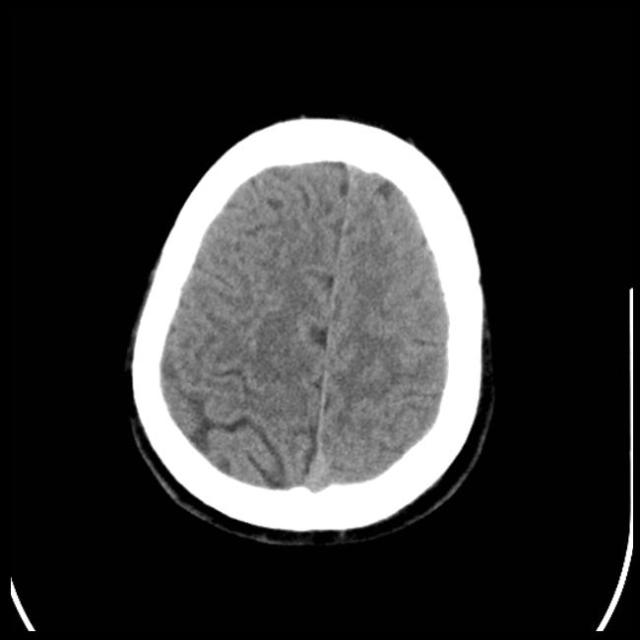lesion: (123, 110, 498, 548)
